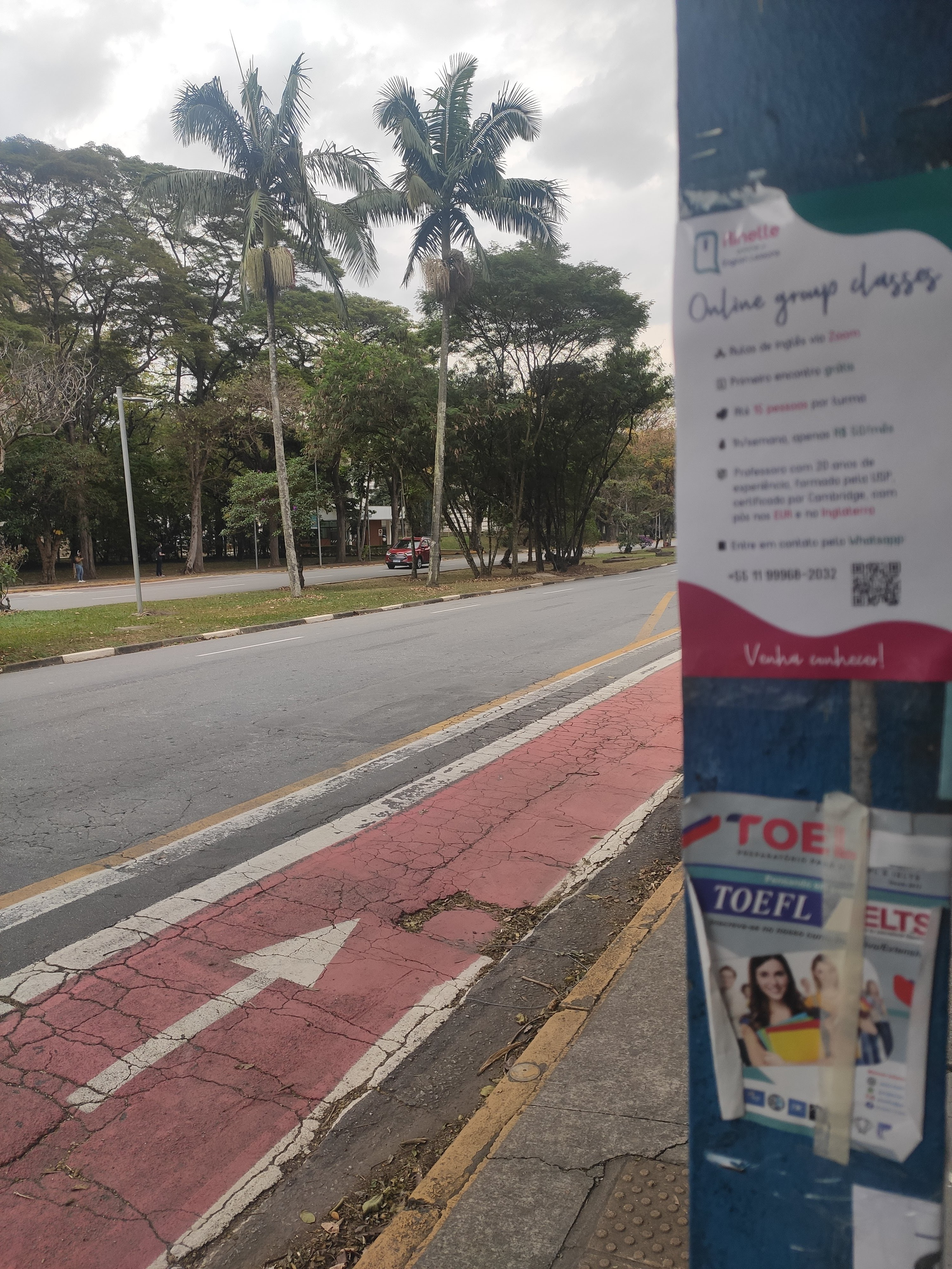QR-CODE: (853, 562, 900, 606)
